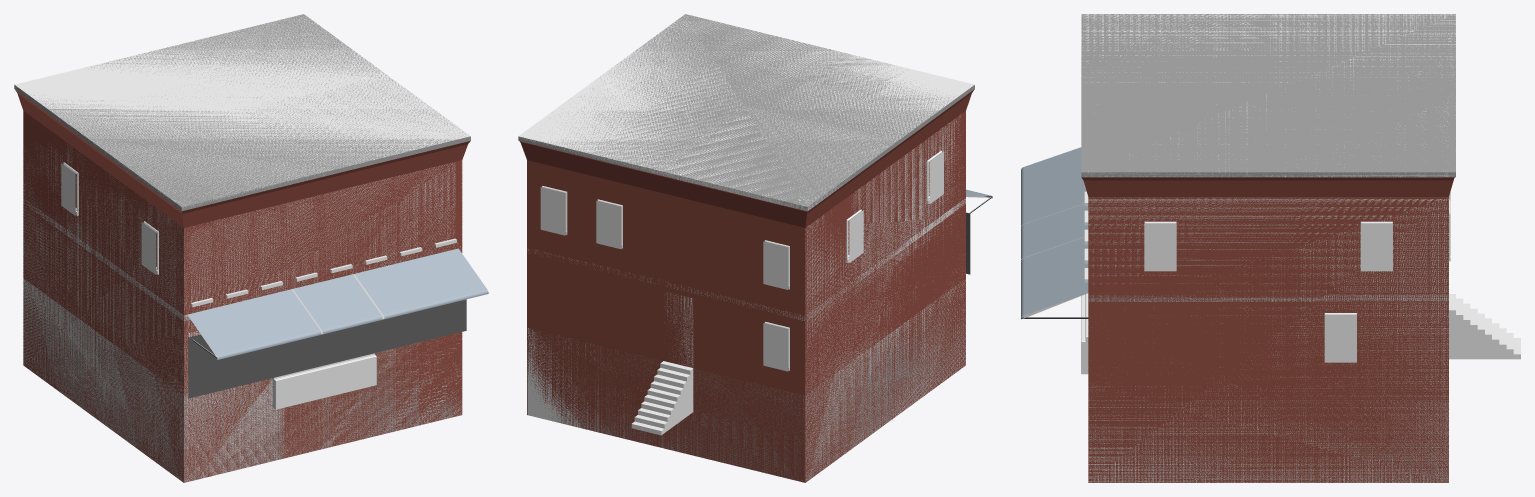
File: eca_bld_shop_town_e.dae
3 renders of one model, left to right at view 1: azimuth 30°, elevation 25°; view 2: azimuth 150°, elevation 25°; view 3: azimuth 270°, elevation 25°, orthographic. The views are drawn at different scales.
Parts seen in each view (by area): view 1: eca_bld_shop_town_e_a20, eca_bld_shop_town_e_a700, eca_bld_shop_town_e_a100, Colmesh_eca_bld_shop_town_e-1; view 2: eca_bld_shop_town_e_a20, eca_bld_shop_town_e_a700, eca_bld_shop_town_e_a100, Colmesh_eca_bld_shop_town_e-1; view 3: eca_bld_shop_town_e_a20, eca_bld_shop_town_e_a100, eca_bld_shop_town_e_a700, Colmesh_eca_bld_shop_town_e-1.
Part boxes in pixels (x1,y1,x2,y2): eca_bld_shop_town_e_a20: (17,14,489,482); eca_bld_shop_town_e_a700: (15,14,488,481); eca_bld_shop_town_e_a100: (14,85,470,482); Colmesh_eca_bld_shop_town_e-1: (23,143,462,482); eca_bld_shop_town_e_a20: (520,14,989,482); eca_bld_shop_town_e_a700: (518,15,992,470); eca_bld_shop_town_e_a100: (518,85,992,482); Colmesh_eca_bld_shop_town_e-1: (805,115,965,481); eca_bld_shop_town_e_a20: (1021,14,1455,482); eca_bld_shop_town_e_a100: (1021,172,1520,482); eca_bld_shop_town_e_a700: (1021,14,1520,482); Colmesh_eca_bld_shop_town_e-1: (1088,197,1448,482).
Bounding box in the file's own units: 10.4 × 13.87 × 9.6.
